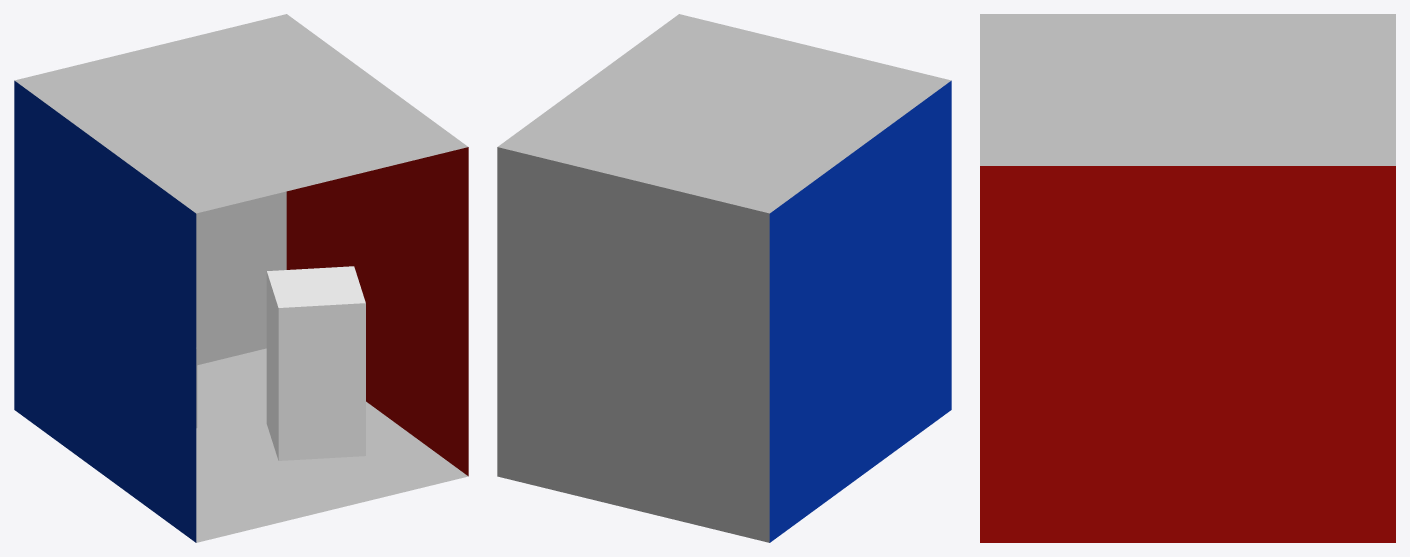
File: cornell_box.obj
The picture shows the model from 3 angles, left to right: view 1: azimuth 30°, elevation 25°; view 2: azimuth 150°, elevation 25°; view 3: azimuth 270°, elevation 25°; orthographic projection. The views are drawn at different scales.
Parts seen in each view (by area): view 1: Cube, Cube.003; view 2: Cube; view 3: Cube.
Boxes of the visible parts, x1,y1,x2,y2 form: Cube: (14, 14, 468, 542); Cube.003: (266, 266, 365, 460); Cube: (497, 14, 951, 542); Cube: (980, 14, 1395, 542).
Bounding box in the file's own units: 3.46 × 4.01 × 4.
